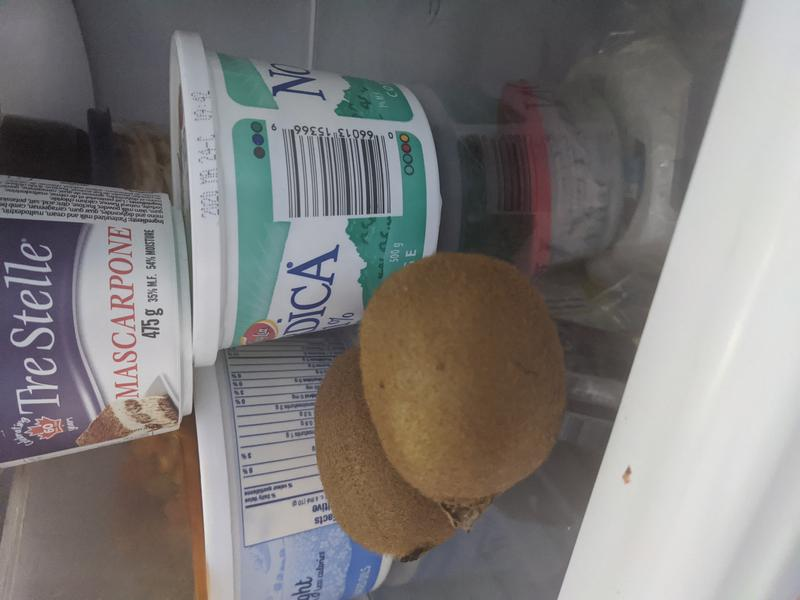kiwi: (358, 252, 566, 504), (314, 343, 456, 562)
